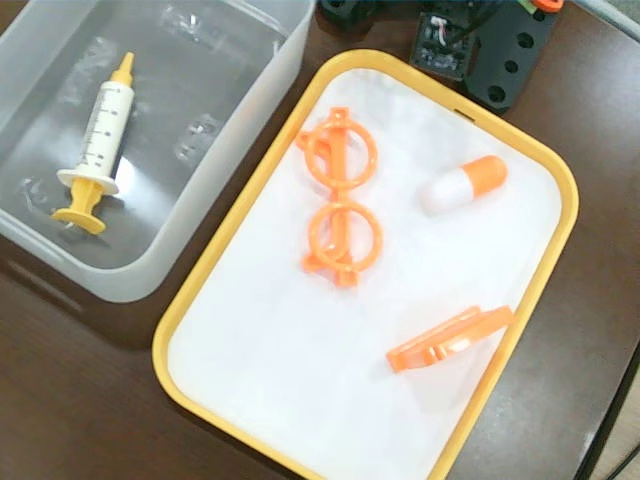pill: (418, 155, 510, 216)
syringe: (53, 51, 137, 235)
